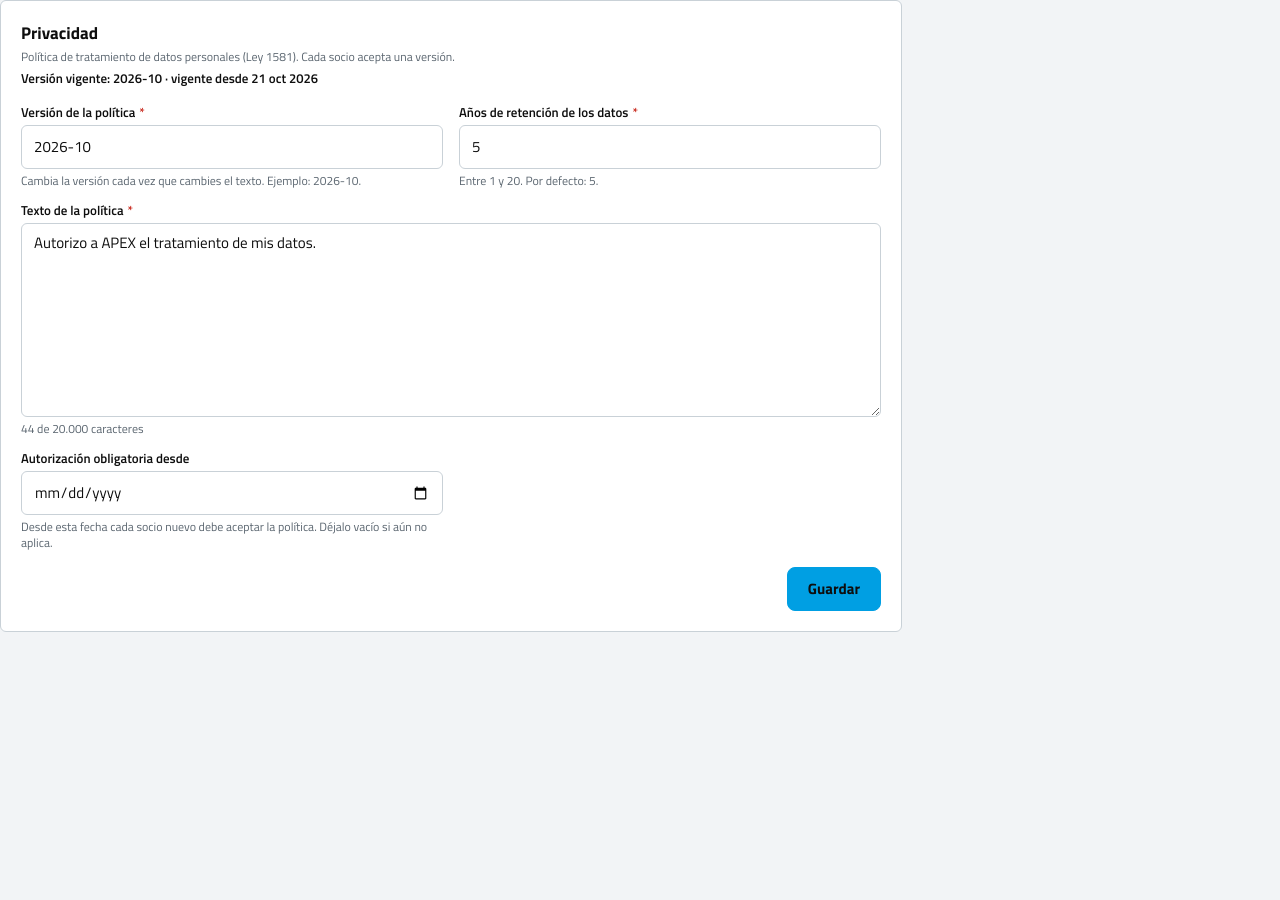
Test: PrivacySettingsForm › cambiar la versión pide confirmación; Volver no guarda
Replace the text in the field labelled "Versión de la política*" with "2026-11": (232, 147) [21,125,443,169]
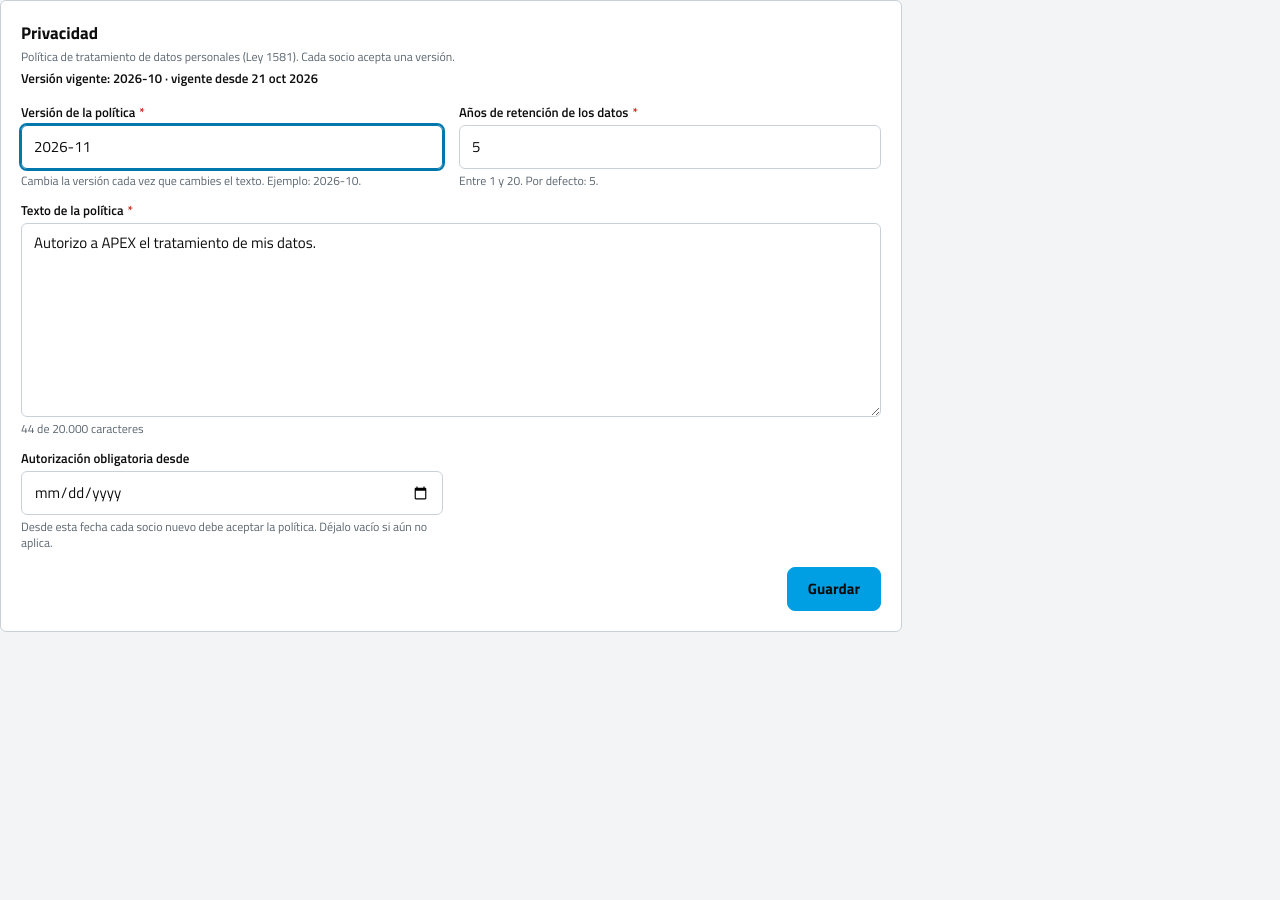
Click the button "Guardar": (834, 589) [787,567,881,611]
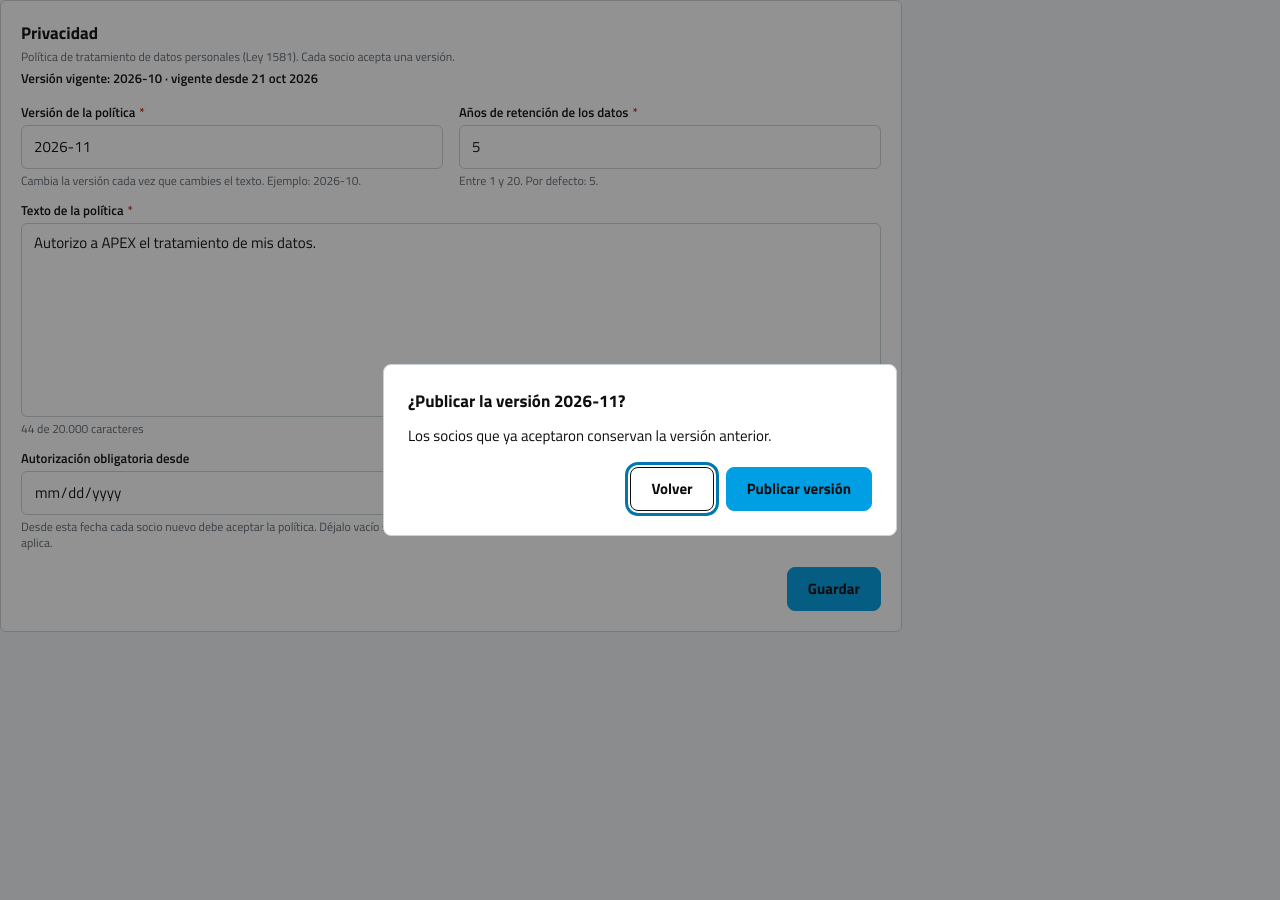
Expected: the dialog "¿Publicar la versión 2026-11?" shows "Los socios que ya aceptaron conservan la versión anterior.", [408,424,772,447]
Click the button "Volver": (672, 489) [630,467,714,511]
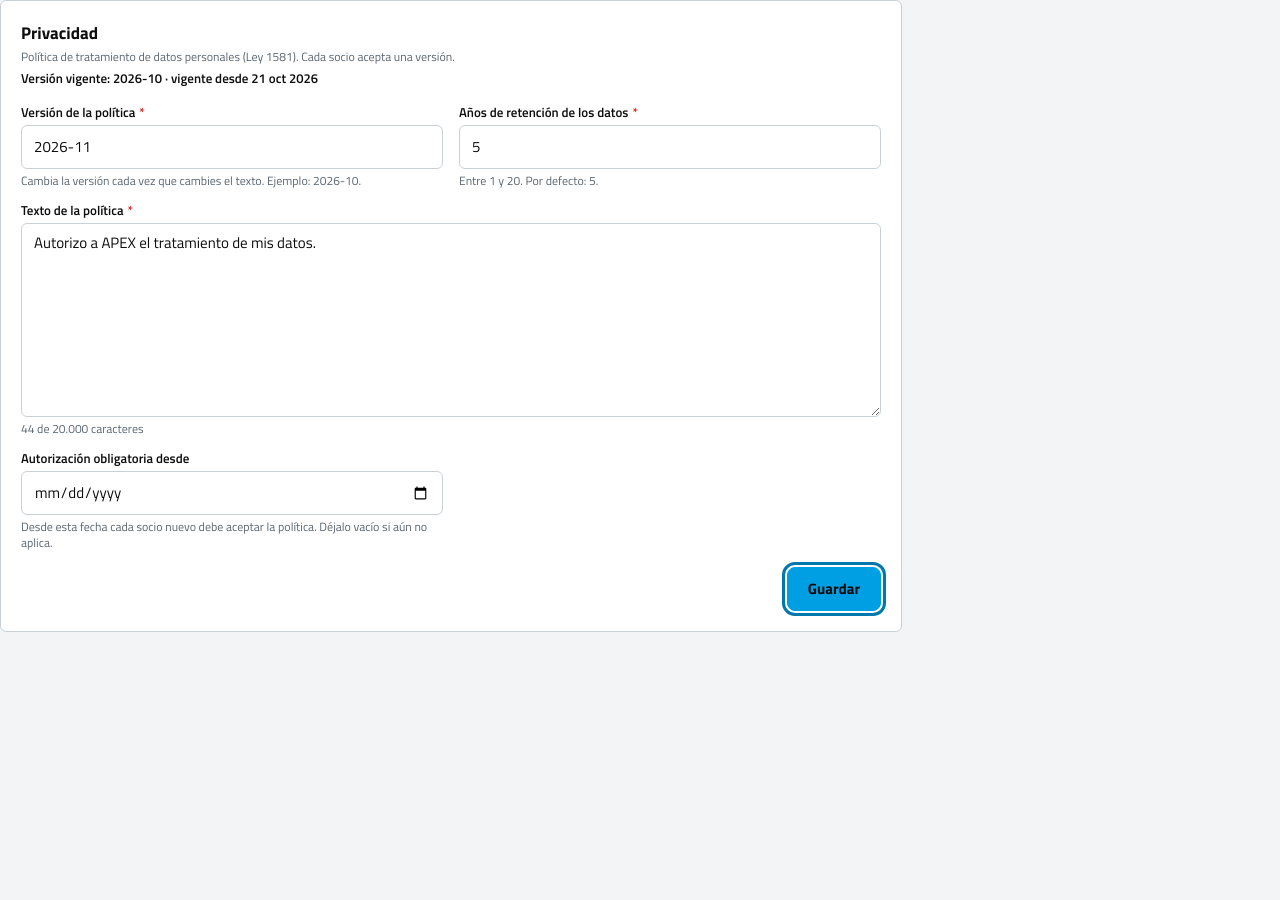
Expected: the dialog is gone
